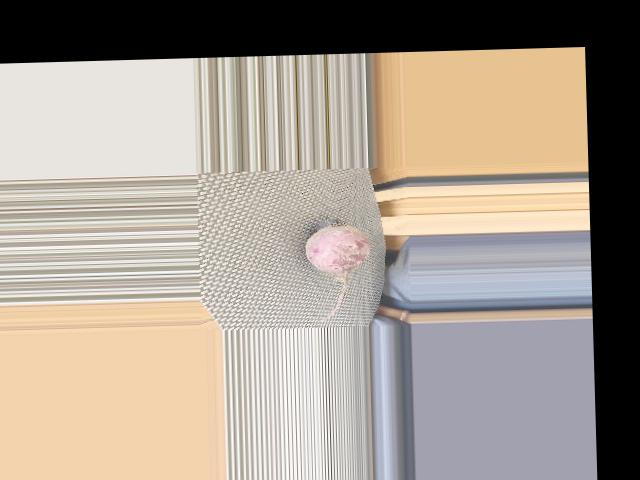beet: (305, 216, 373, 319)
